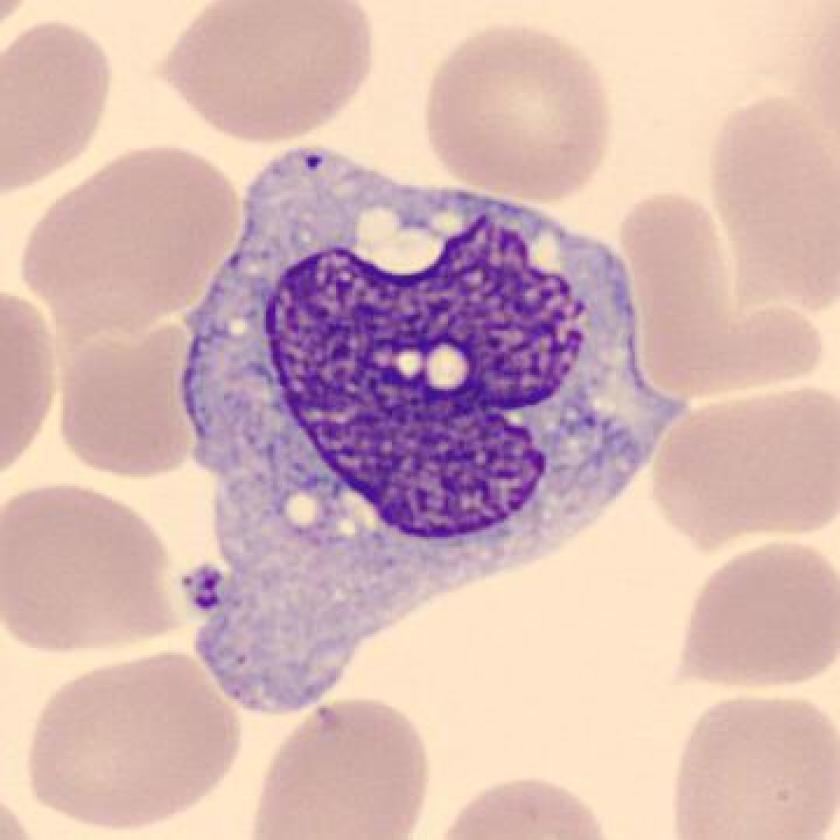monocyte: (151, 124, 711, 728)
